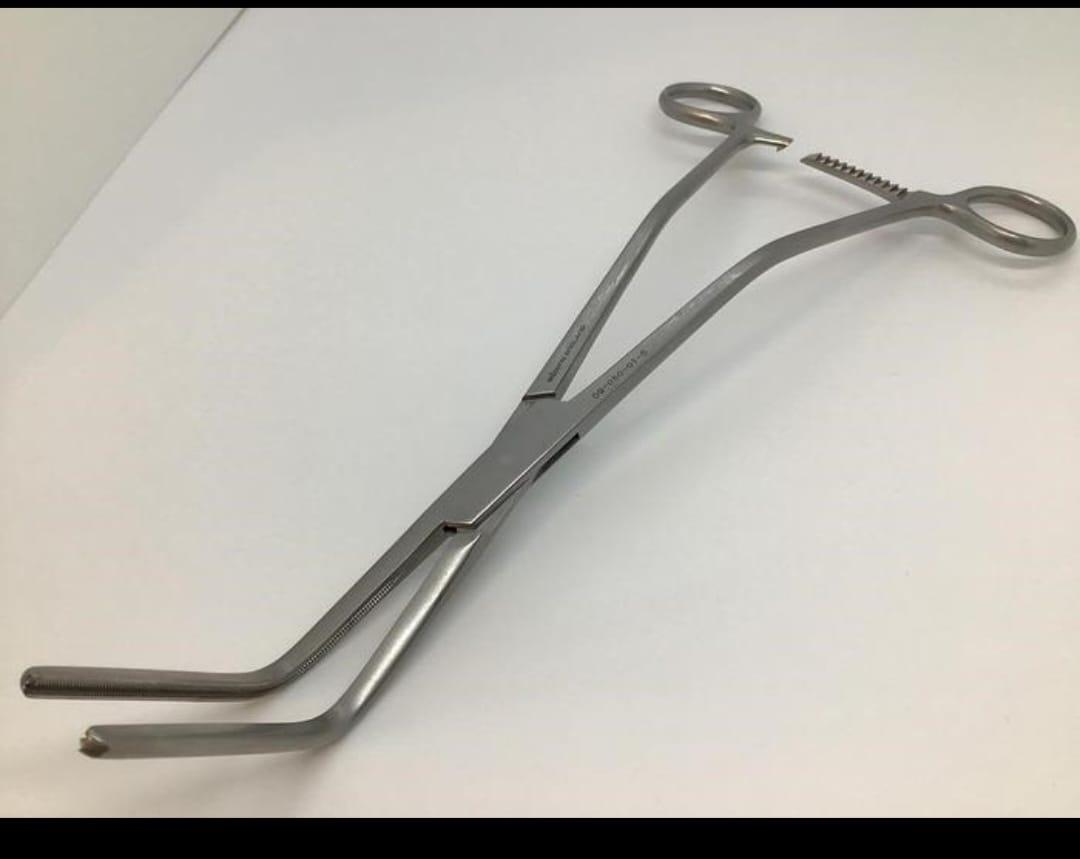Surgical blade: (20, 73, 1080, 756)
